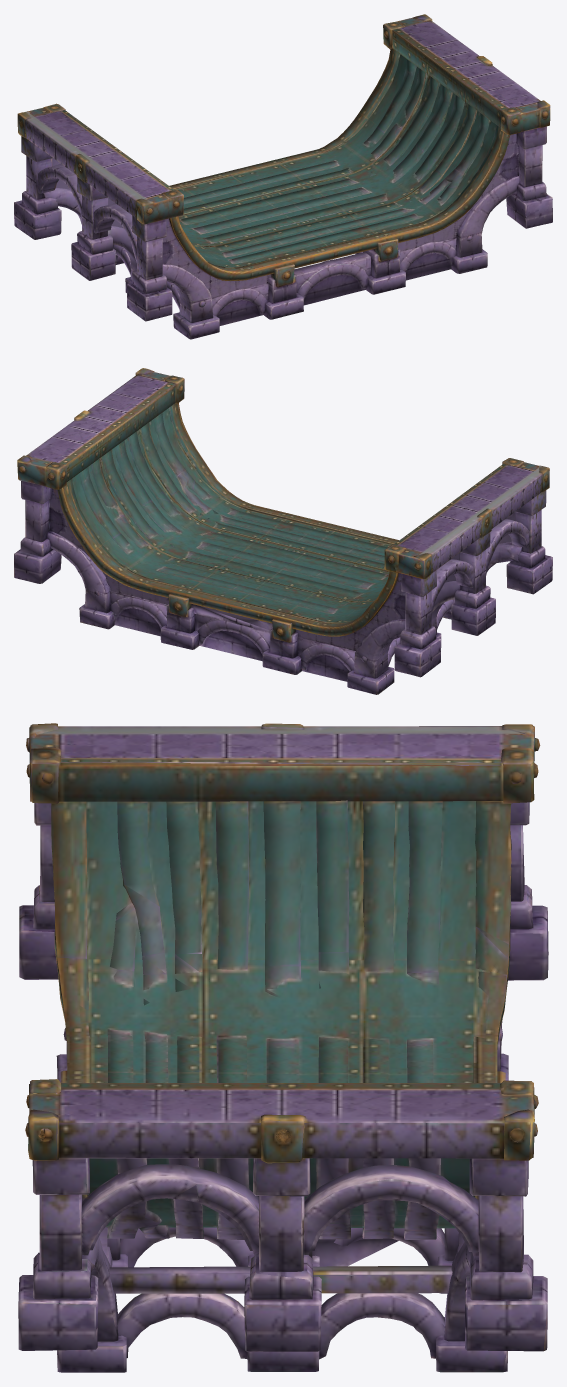
File: aqueduct-module.glb
3 renders of one model, top to bottom at view 1: azimuth 30°, elevation 25°; view 2: azimuth 150°, elevation 25°; view 3: azimuth 270°, elevation 25°, orthographic. The views are drawn at different scales.
Bounding box in the file's own units: 1 × 0.362 × 0.5629.
1 material, 1 textured.
